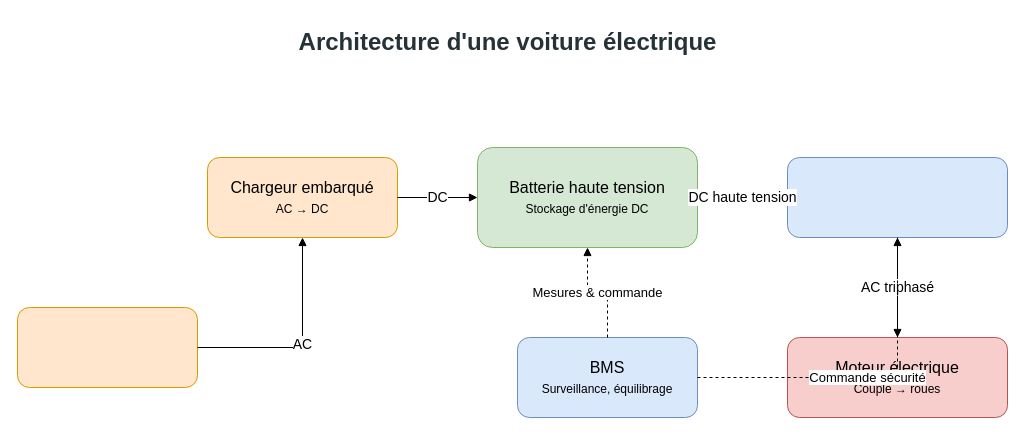
Image size: 1025x435. Some labels were removed from this diagram. Here are the shapes that lost their labels. From the top down, the centre of each, then its label:
[897,197]: Onduleur / onduleur de traction DC → AC triphasé
[107,347]: Prise de recharge Courant secteur
